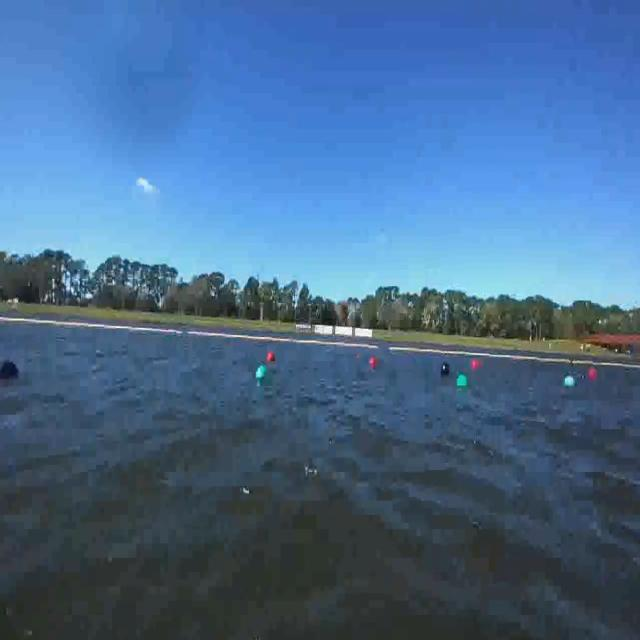black-buoy: (2, 356, 19, 380), (440, 358, 450, 377)
green-buoy: (457, 374, 469, 390), (563, 376, 575, 389), (258, 364, 268, 379)
red-buoy: (589, 367, 598, 379), (268, 352, 276, 363), (470, 360, 479, 369), (369, 357, 376, 366)
